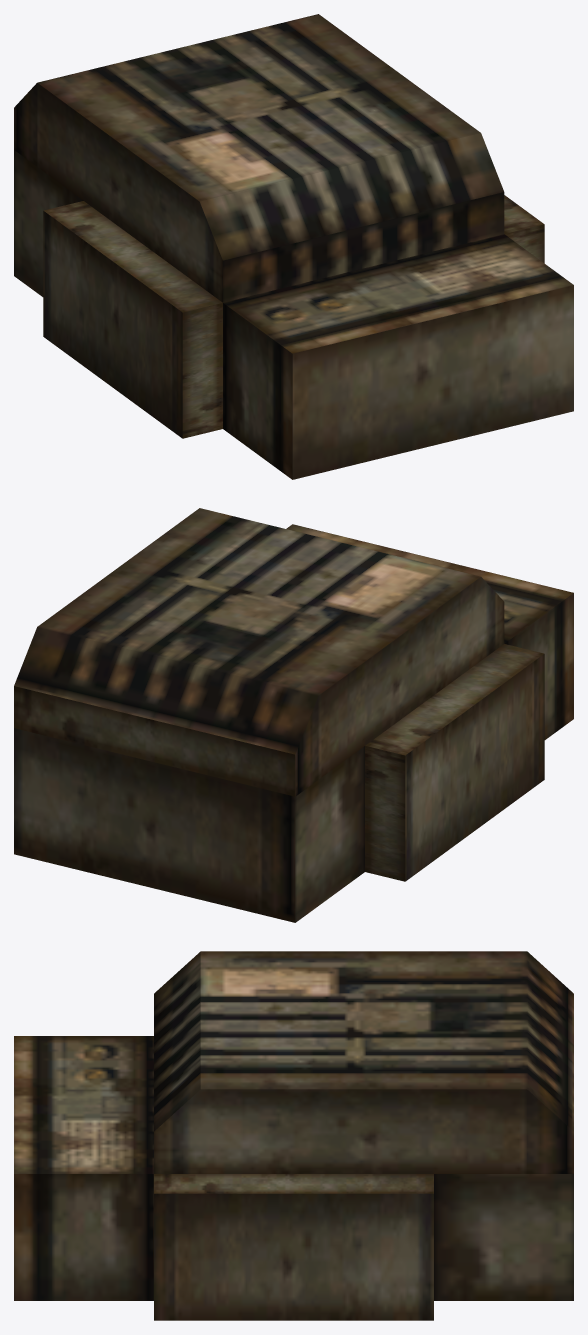
The model's file is powerbox01.fbx.
3 views of the same model, one above another, from view 1: azimuth 30°, elevation 25°; view 2: azimuth 150°, elevation 25°; view 3: azimuth 270°, elevation 25° (orthographic).
Visible parts, largest first — view 1: mesh_0; view 2: mesh_0; view 3: mesh_0.
Part boxes in pixels (left/top/right/bottom): mesh_0: left=14, top=14, right=573, bottom=479; mesh_0: left=14, top=508, right=573, bottom=922; mesh_0: left=14, top=951, right=573, bottom=1320.
Bounding box in the file's own units: 67.5 × 37.5 × 90.
Materials: 1 (1 with a texture image).
